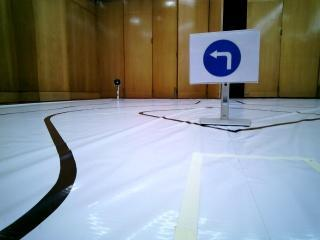left: (194, 34, 252, 81)
